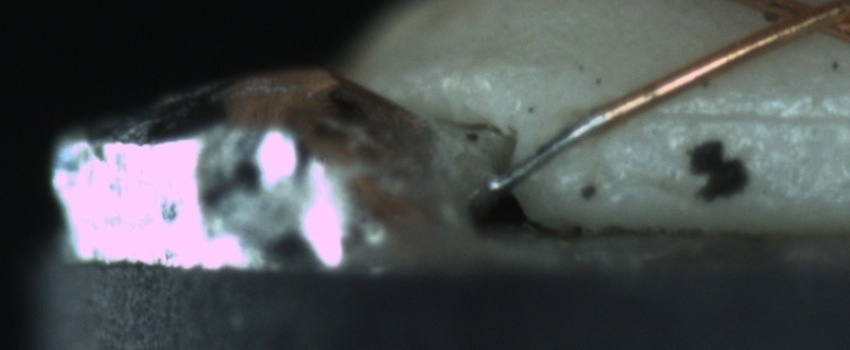CL: (744, 1, 850, 44)
DL: (639, 82, 850, 147)
TS: (492, 109, 610, 194)
TTCW: (484, 89, 641, 194)
